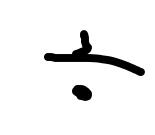div: (43, 30, 146, 102)
